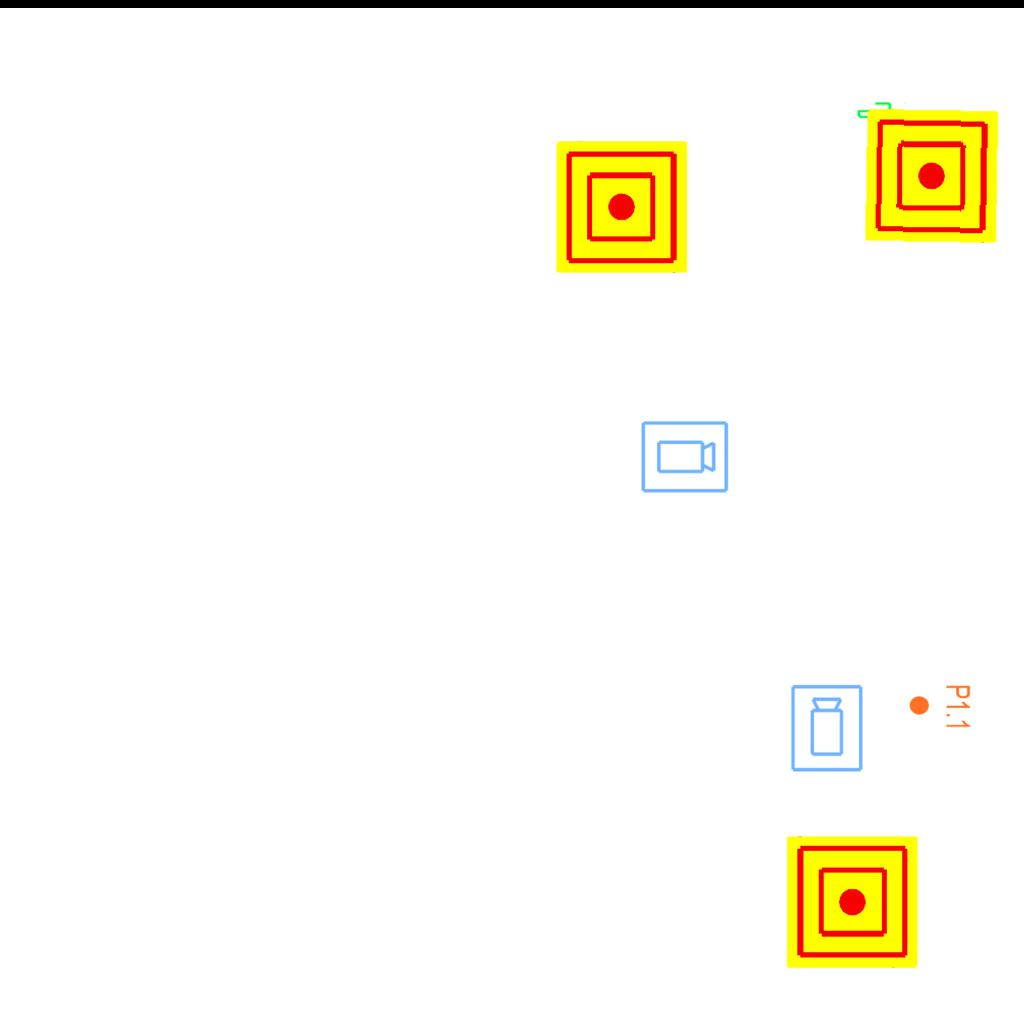Datenanschluss_einfach: (856, 100, 906, 134)
Downlight_LED_Einbauleuchten_Flur: (908, 684, 972, 730)
KFO_Kamera_mit_Festobjektiv: (789, 683, 866, 774), (639, 419, 730, 496)
NAM-Nichtautomatischer_Melder: (864, 108, 1000, 244), (556, 141, 688, 273), (786, 836, 918, 968)
